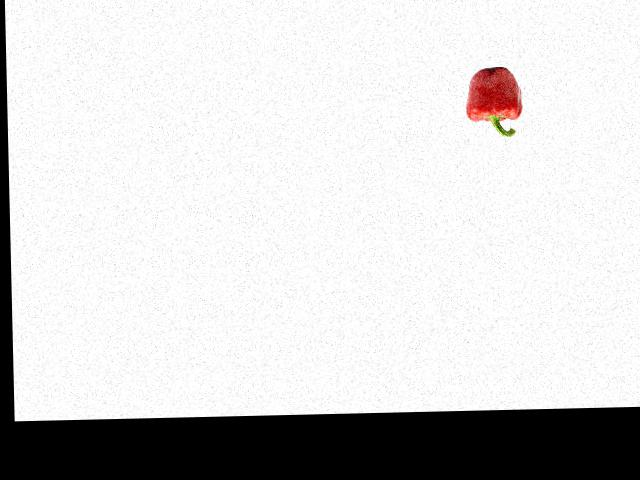bell_pepper: (461, 63, 526, 139)
